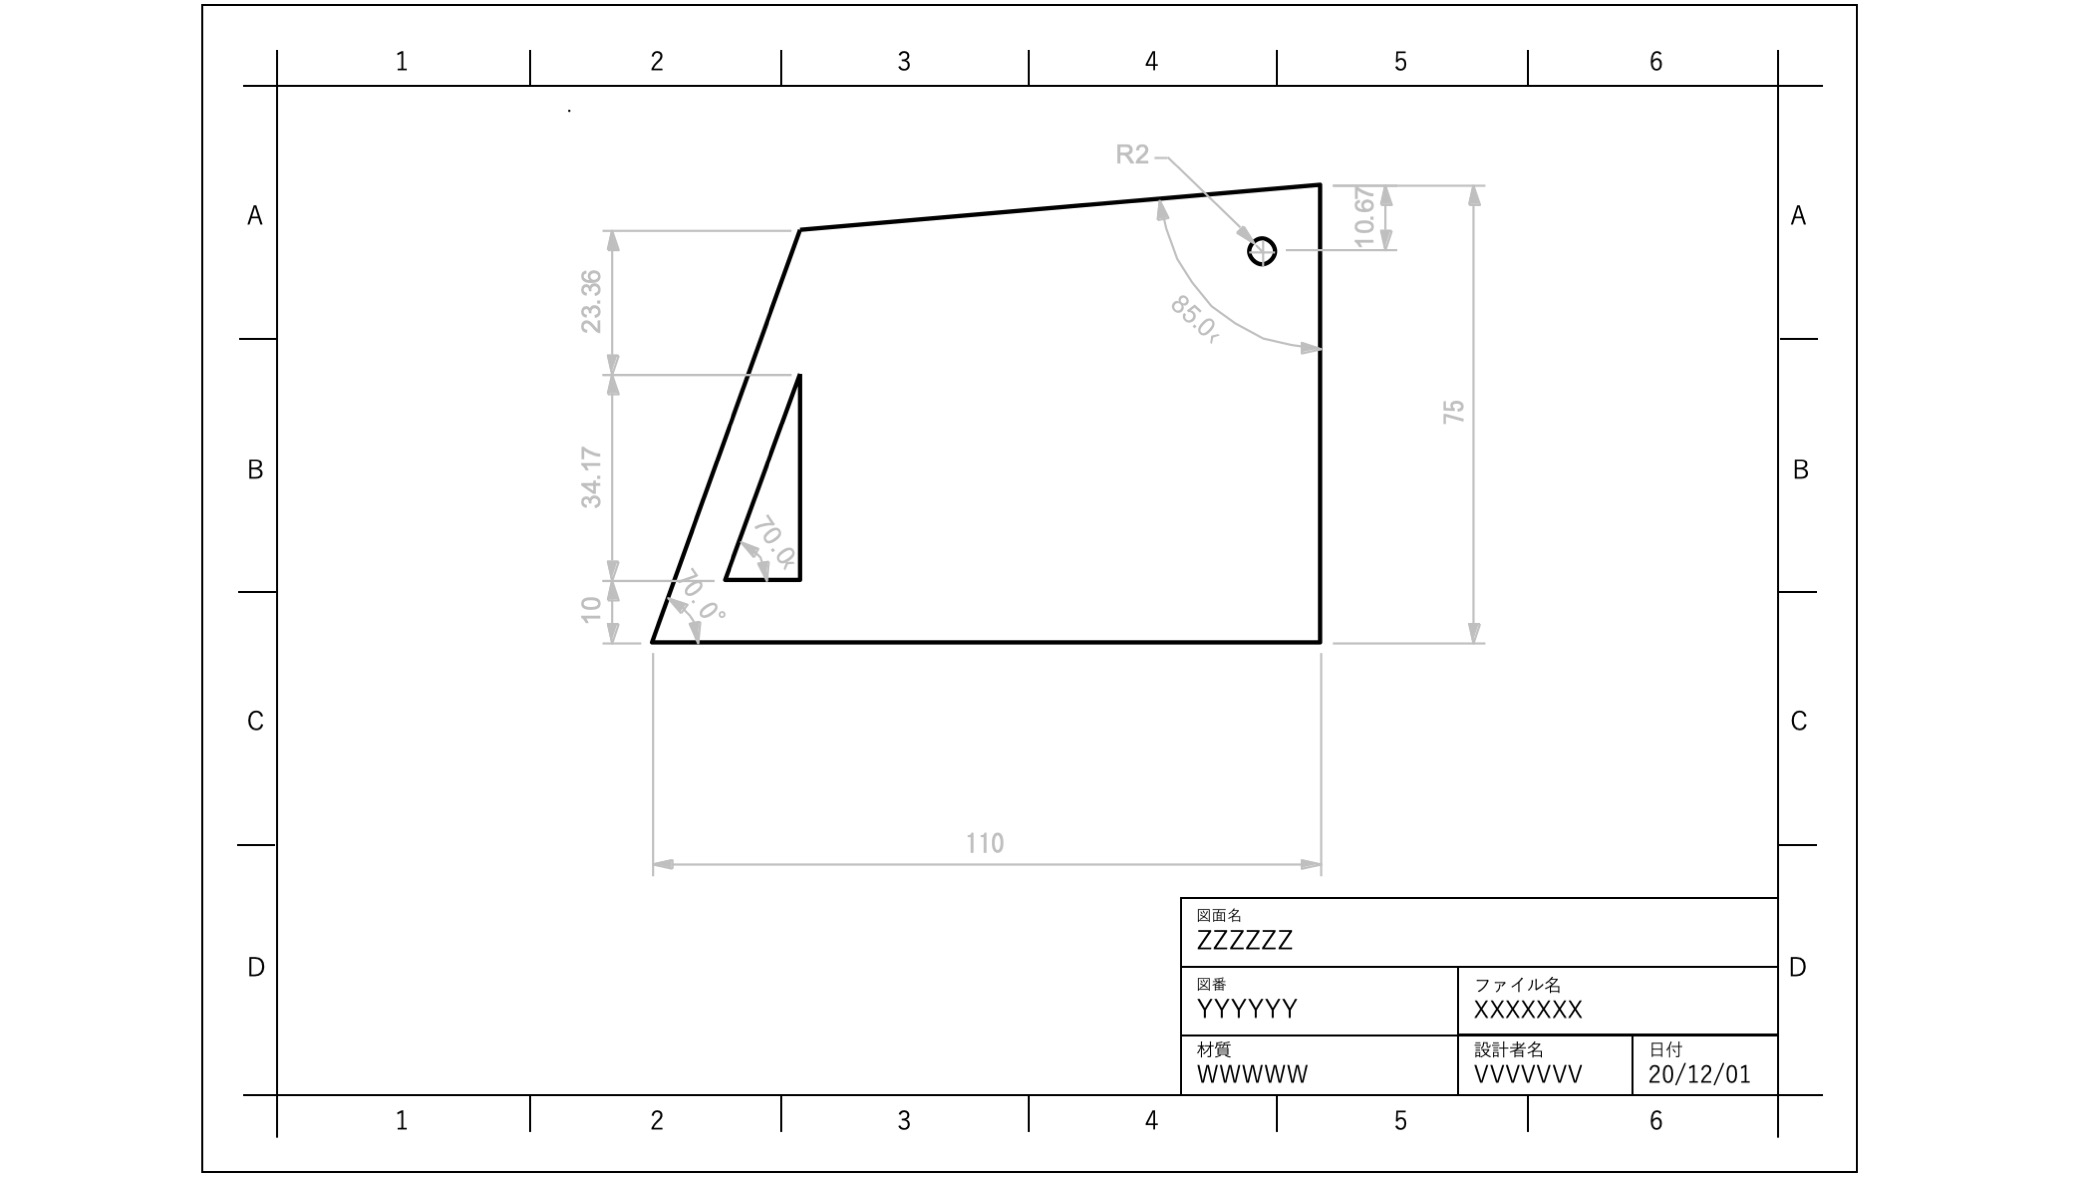circle: (1242, 228, 1282, 271)
triangle: (723, 363, 808, 591)
